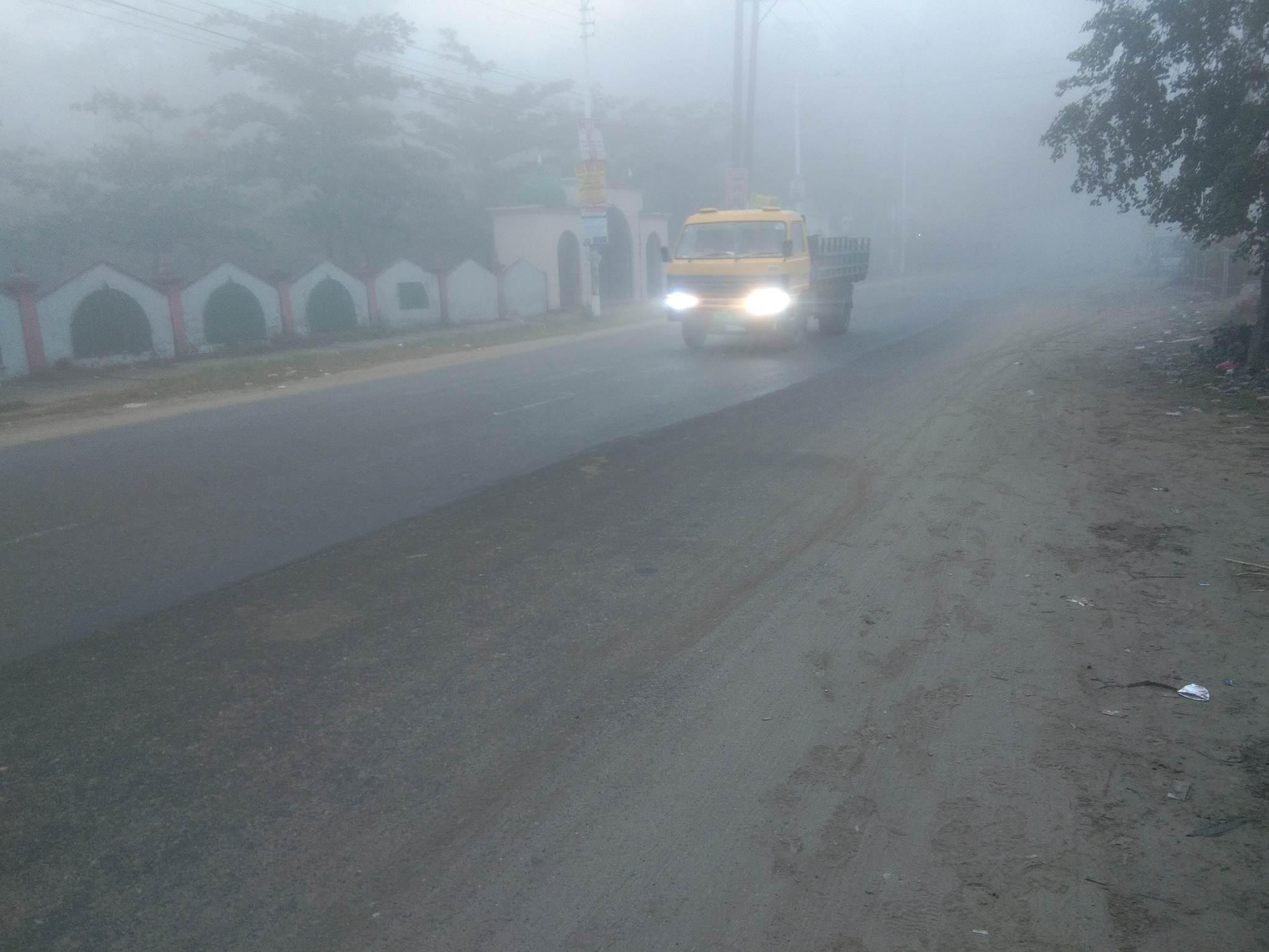Truck: (633, 190, 883, 366)
